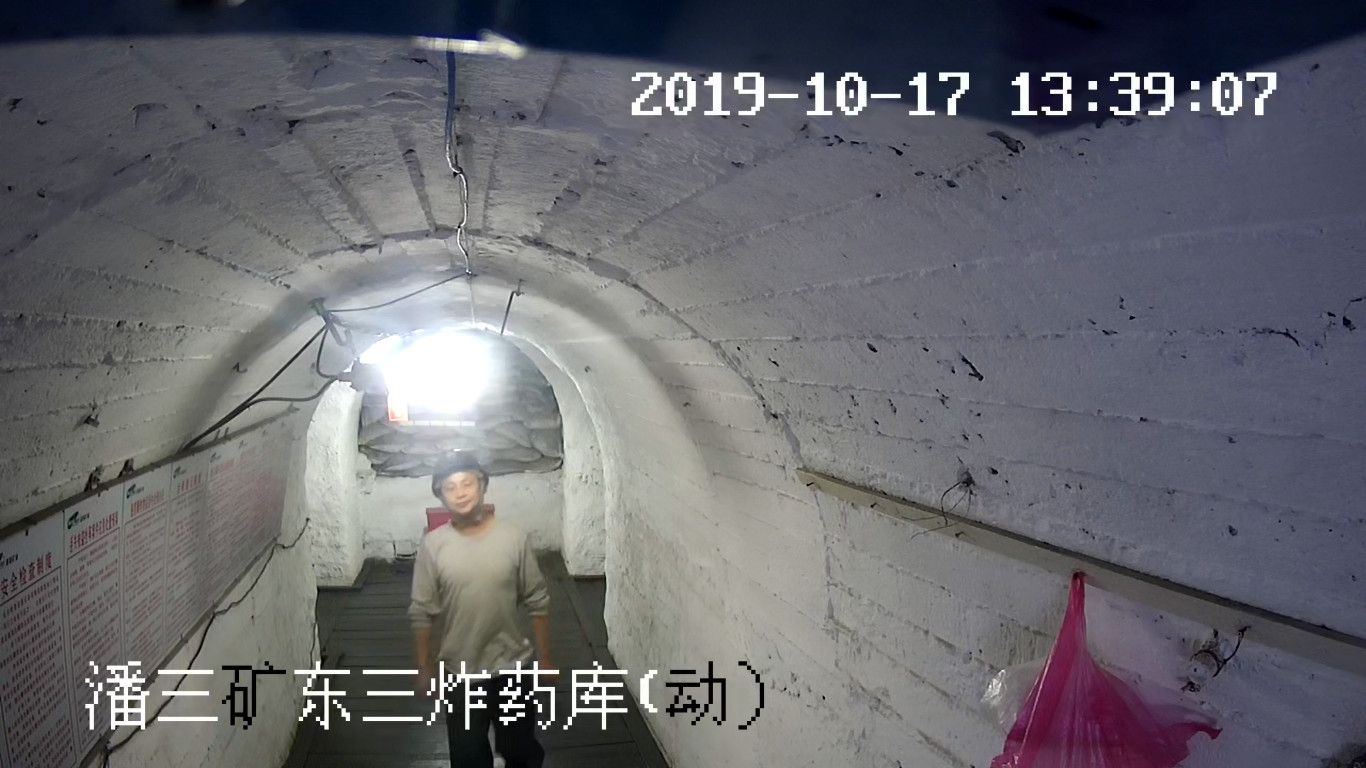helmet: (431, 447, 488, 497)
